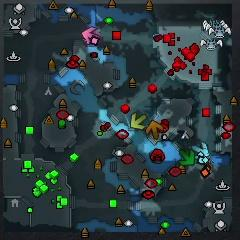x1: (82, 26, 102, 46)
x2: (130, 113, 147, 130)
x3: (192, 141, 211, 162)
x4: (178, 148, 195, 166)
x5: (145, 120, 164, 140)
